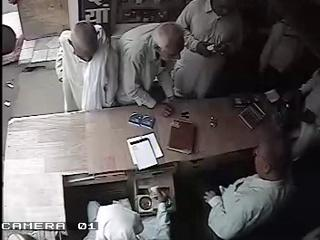Normal: (203, 116, 298, 240), (172, 0, 245, 100), (115, 22, 185, 117), (59, 20, 120, 112)
